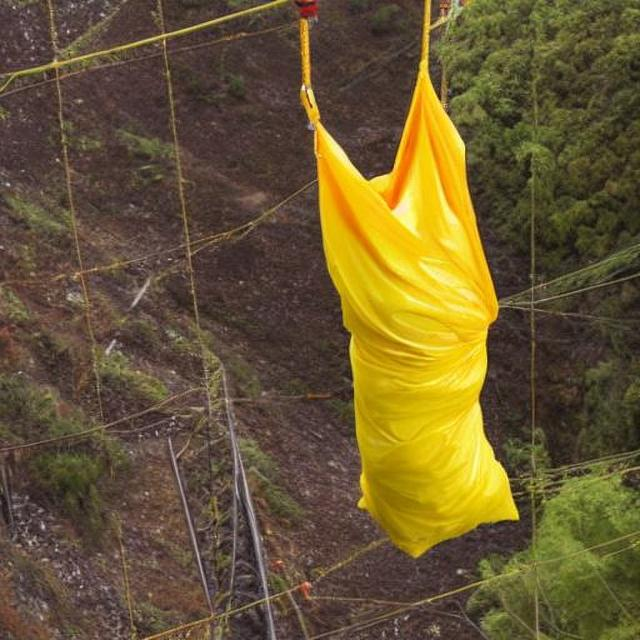floating object: (291, 0, 509, 556)
